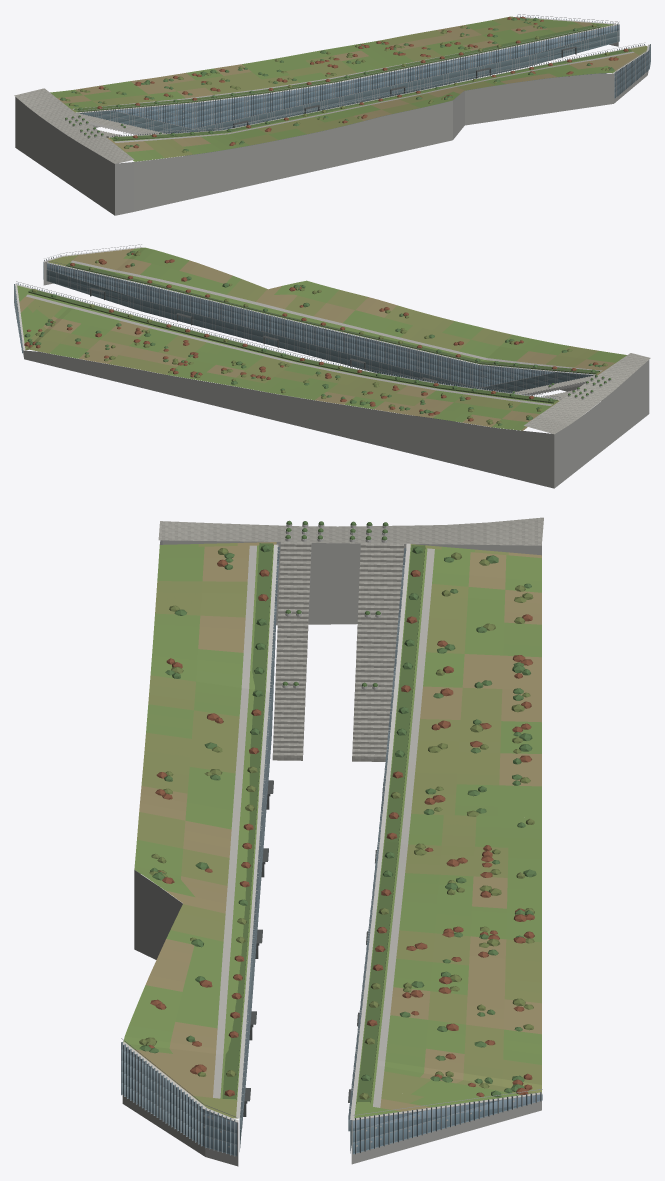
3 renders of one model, top to bottom at view 1: azimuth 30°, elevation 25°; view 2: azimuth 150°, elevation 25°; view 3: azimuth 270°, elevation 25°, orthographic. The views are drawn at different scales.
Visible parts, largest first — view 1: ecc__wall_concrete, ecc__roof_lawn, ecc__roof_meadow, ecc__glass, ecc__glass_low, ecc__fin_glass, ecc__roof_grass_dry, ecc__roof_bed, ecc__paving_granite, ecc__fin_steel, ecc__mullion_steel, ecc__glass_sky (+6 smaller); view 2: ecc__wall_concrete, ecc__roof_lawn, ecc__roof_meadow, ecc__roof_grass_dry, ecc__glass, ecc__glass_low, ecc__fin_glass, ecc__roof_bed, ecc__paving_granite, ecc__roof_path, ecc__fin_steel, ecc__mullion_steel (+5 smaller); view 3: ecc__roof_lawn, ecc__roof_meadow, ecc__roof_grass_dry, ecc__paving_granite, ecc__roof_bed, ecc__wall_concrete, ecc__fin_glass, ecc__roof_path, ecc__coping, ecc__shrub_red, ecc__shrub, ecc__glass (+3 smaller).
Boxes of the visible parts, left/top/right/bottom form: ecc__wall_concrete: left=15, top=25, right=648, bottom=215; ecc__roof_lawn: left=50, top=18, right=632, bottom=161; ecc__roof_meadow: left=70, top=16, right=647, bottom=158; ecc__glass: left=124, top=29, right=647, bottom=151; ecc__glass_low: left=76, top=31, right=619, bottom=155; ecc__fin_glass: left=82, top=15, right=650, bottom=136; ecc__roof_grass_dry: left=57, top=21, right=639, bottom=152; ecc__roof_bed: left=74, top=24, right=631, bottom=140; ecc__paving_granite: left=14, top=88, right=165, bottom=163; ecc__fin_steel: left=76, top=14, right=650, bottom=134; ecc__mullion_steel: left=82, top=30, right=619, bottom=133; ecc__glass_sky: left=109, top=25, right=647, bottom=113; ecc__wall_concrete: left=23, top=261, right=649, bottom=488; ecc__roof_lawn: left=17, top=247, right=626, bottom=430; ecc__roof_meadow: left=25, top=255, right=616, bottom=410; ecc__roof_grass_dry: left=19, top=249, right=614, bottom=430; ecc__glass: left=43, top=266, right=544, bottom=387; ecc__glass_low: left=46, top=270, right=593, bottom=421; ecc__fin_glass: left=14, top=247, right=591, bottom=398; ecc__roof_bed: left=28, top=263, right=599, bottom=403; ecc__paving_granite: left=456, top=353, right=650, bottom=434; ecc__roof_path: left=26, top=260, right=602, bottom=405; ecc__fin_steel: left=14, top=244, right=593, bottom=397; ecc__mullion_steel: left=47, top=266, right=588, bottom=392; ecc__roof_lawn: left=123, top=544, right=541, bottom=1118; ecc__roof_meadow: left=137, top=543, right=541, bottom=1118; ecc__roof_grass_dry: left=134, top=542, right=541, bottom=1111; ecc__paving_granite: left=158, top=517, right=543, bottom=761; ecc__roof_bed: left=222, top=543, right=425, bottom=1103; ecc__wall_concrete: left=122, top=540, right=541, bottom=1166; ecc__fin_glass: left=121, top=547, right=541, bottom=1156; ecc__roof_path: left=213, top=545, right=434, bottom=1107; ecc__coping: left=123, top=543, right=542, bottom=1122; ecc__shrub_red: left=149, top=559, right=534, bottom=1096; ecc__shrub: left=139, top=520, right=536, bottom=1097; ecc__glass: left=123, top=1052, right=538, bottom=1156.
Size of the model in its own units: 241 by 23.52 by 79.03.
19 materials, 5 textured.
